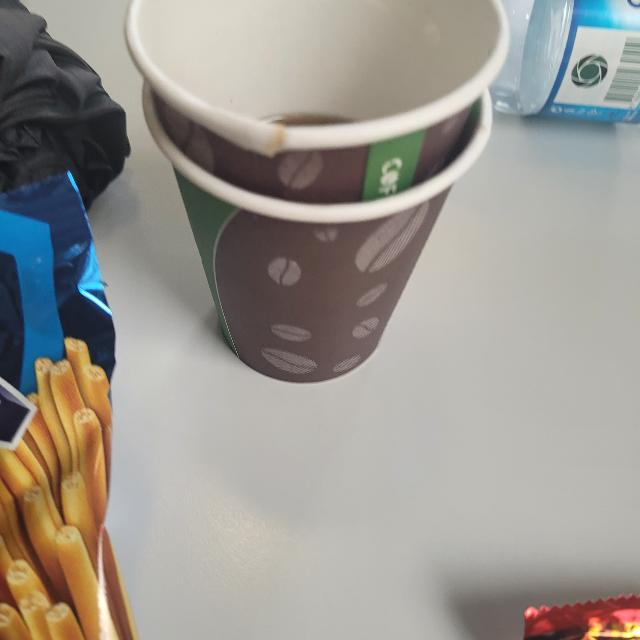Kagit: (113, 0, 516, 390)
Plastik: (0, 163, 150, 640), (510, 0, 640, 133)
